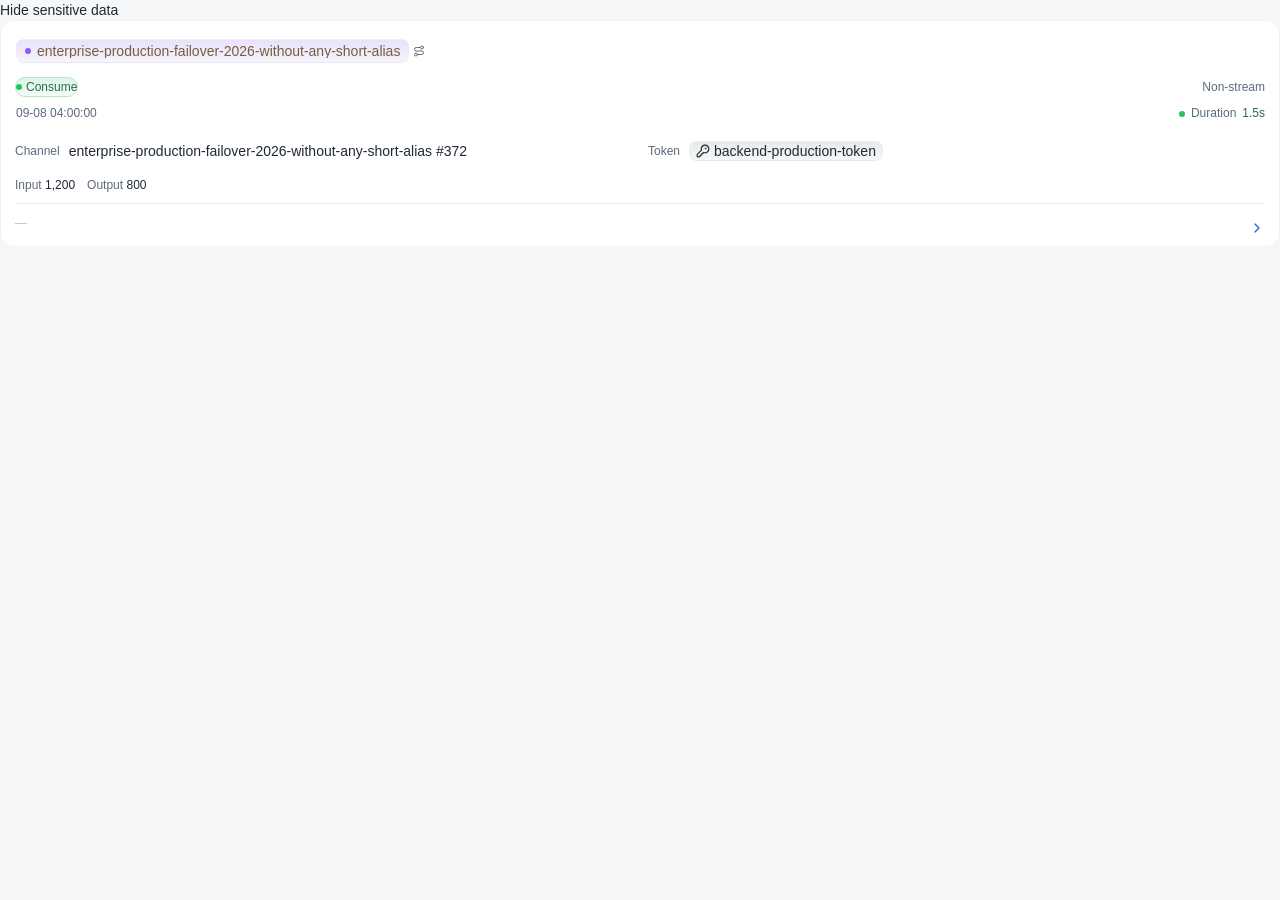
Test: shows mapped model names in full when inspecting a mobile model badge
Click the button "enterprise-production-failover-2026-without-any-short-alias": (221, 51) left=15, top=35, right=426, bottom=67
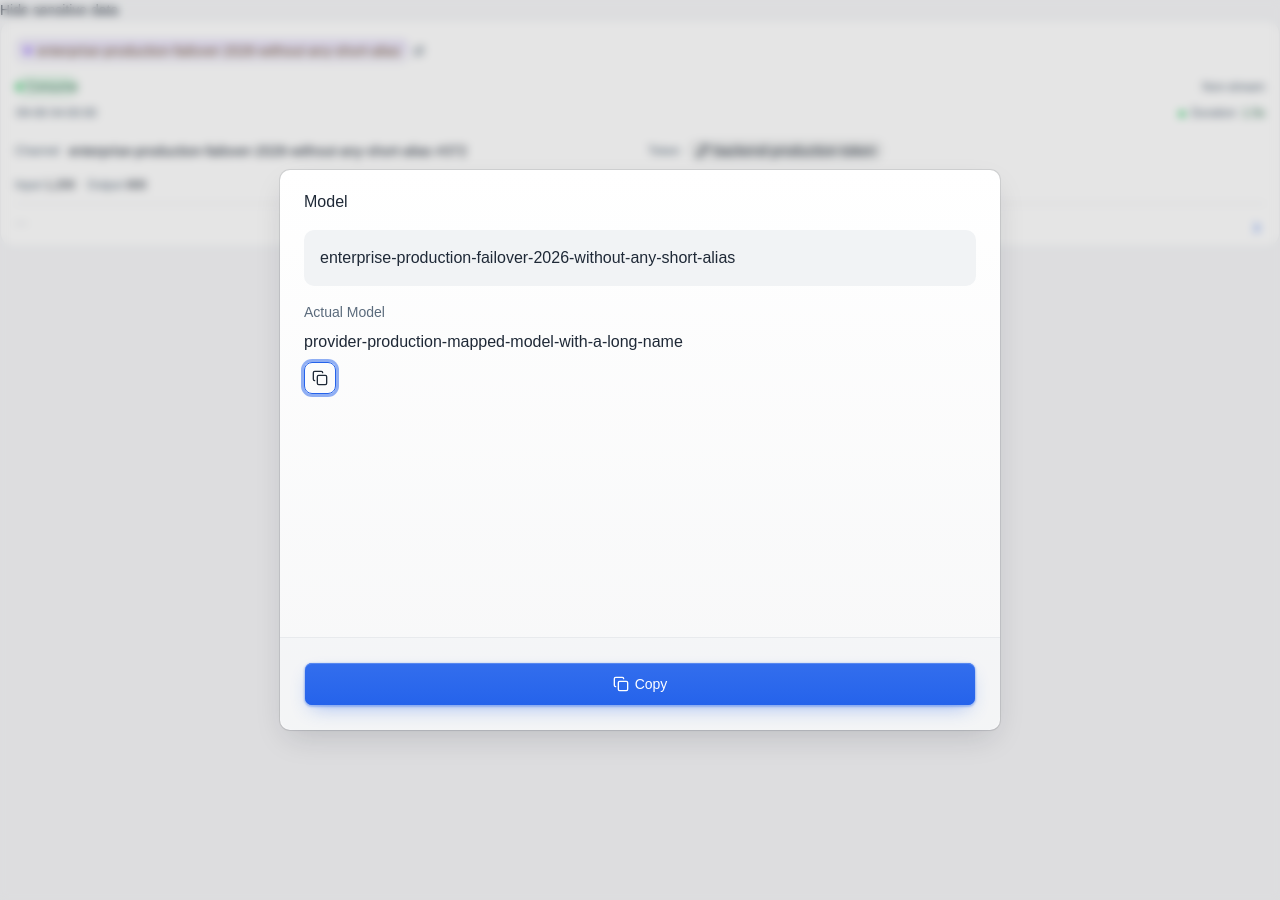
Result: the text "Actual Model" is shown at left=304, top=304, right=385, bottom=320
Result: the text "provider-production-mapped-model-with-a-long-name" is shown at left=304, top=333, right=683, bottom=350
